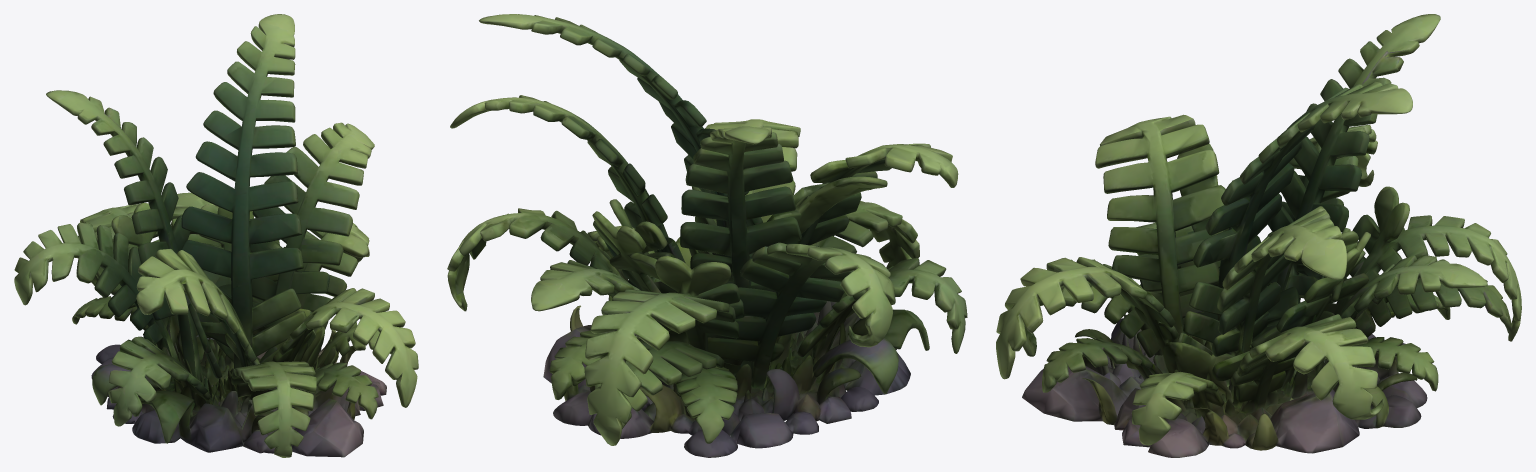
Rendered from fren2.opt.glb.
The picture shows the model from 3 angles, left to right: view 1: azimuth 30°, elevation 25°; view 2: azimuth 150°, elevation 25°; view 3: azimuth 270°, elevation 25°; orthographic projection. The views are drawn at different scales.
Visible parts, largest first — view 1: node_0; view 2: node_0; view 3: node_0.
Boxes of the visible parts, left/top/right/bottom form: node_0: left=14, top=14, right=418, bottom=457; node_0: left=447, top=14, right=967, bottom=457; node_0: left=996, top=14, right=1521, bottom=457.
Bounding box in the file's own units: 0.9194 × 0.7638 × 1.03.
Materials: 1 (1 with a texture image).
